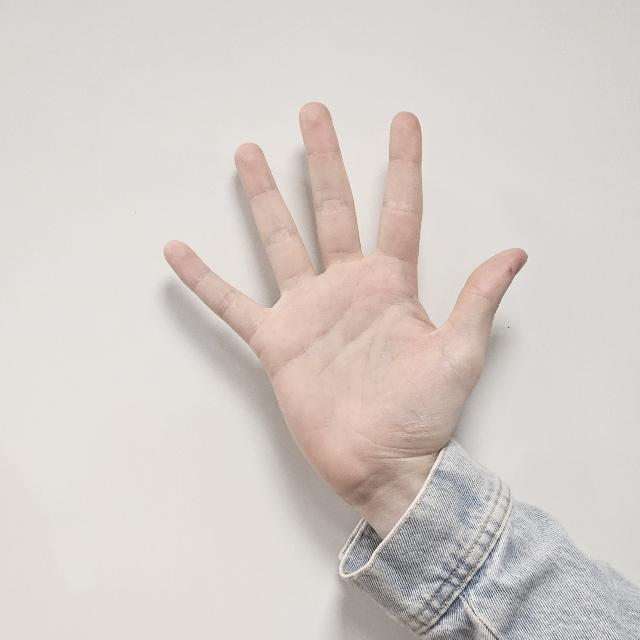X: (159, 95, 529, 471)
